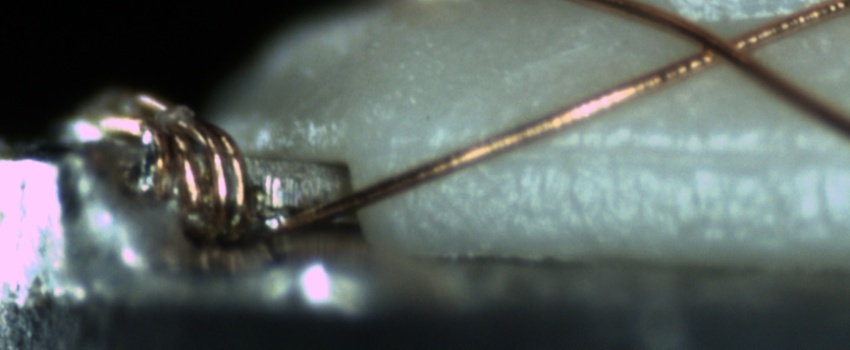CL: (674, 15, 771, 78)
DL: (399, 119, 850, 184)
TE: (80, 75, 262, 242)
